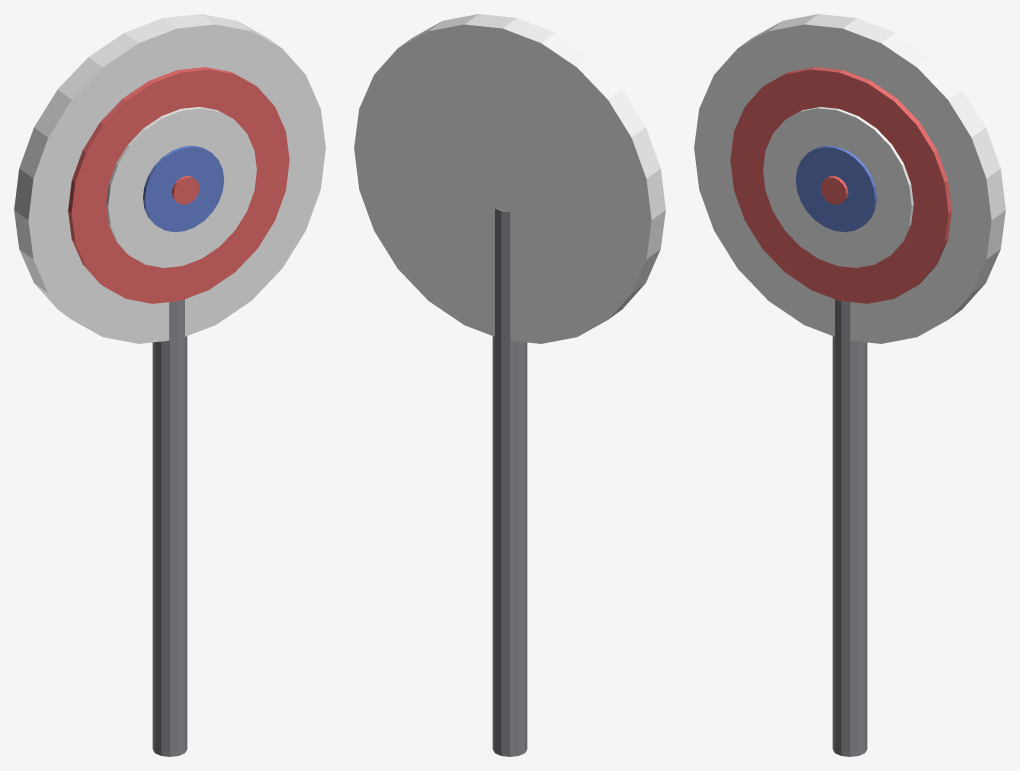
Rendered from target_disc.glb.
3 renders of one model, left to right at view 1: azimuth 30°, elevation 25°; view 2: azimuth 150°, elevation 25°; view 3: azimuth 330°, elevation 25°, orthographic.
Parts seen in each view (by area): view 1: PlateWhite, RingRed, Post, RingWhite, RingBlue, Bullseye; view 2: PlateWhite, Post; view 3: PlateWhite, RingRed, Post, RingWhite, RingBlue, Bullseye.
Boxes of the visible parts, <box> form: PlateWhite: <box>14,14,325,343</box>; RingRed: <box>68,67,289,303</box>; Post: <box>152,299,187,756</box>; RingWhite: <box>106,107,256,267</box>; RingBlue: <box>143,145,224,232</box>; Bullseye: <box>171,176,199,204</box>; PlateWhite: <box>354,14,665,343</box>; Post: <box>492,208,527,756</box>; PlateWhite: <box>694,14,1005,343</box>; RingRed: <box>730,67,951,303</box>; Post: <box>832,299,867,756</box>; RingWhite: <box>763,107,913,267</box>; RingBlue: <box>795,145,876,232</box>; Bullseye: <box>820,176,848,204</box>.
Bounding box in the file's own units: 0.6 × 1.4 × 0.088.
